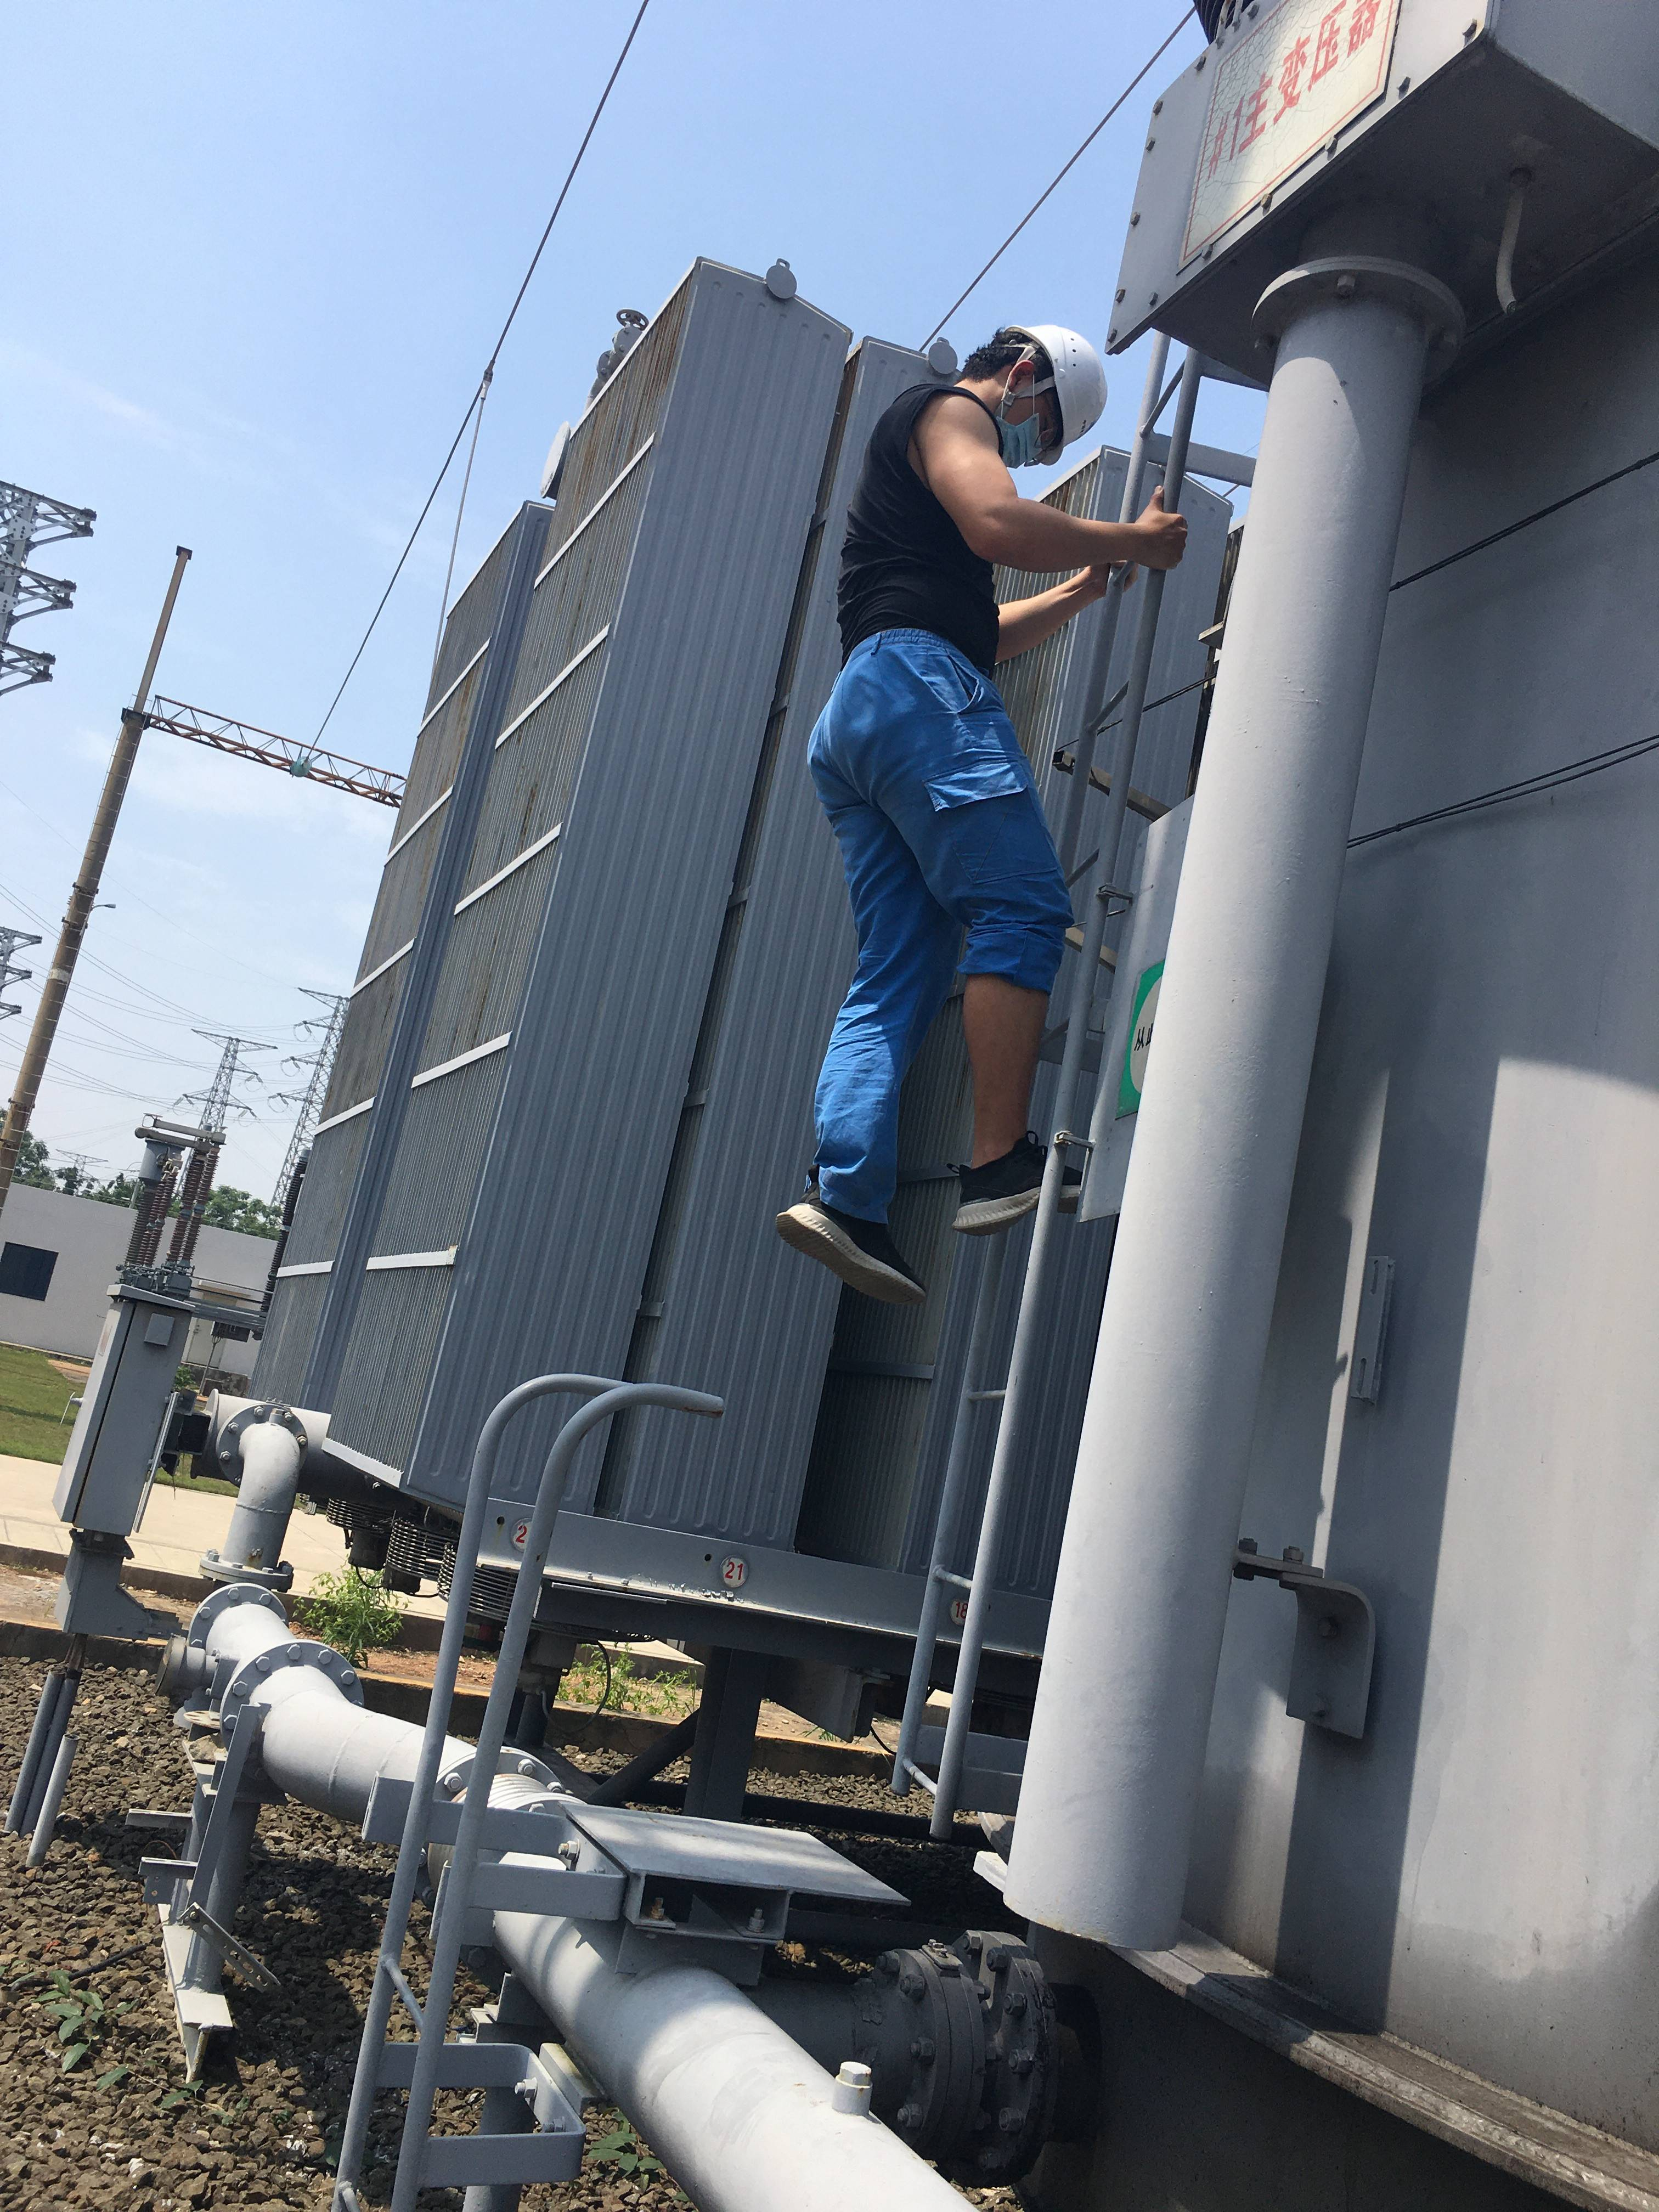downsuit: (786, 632, 1082, 1217)
upcloth: (830, 362, 1016, 660)
wrongbottom: (941, 921, 1075, 1177)
